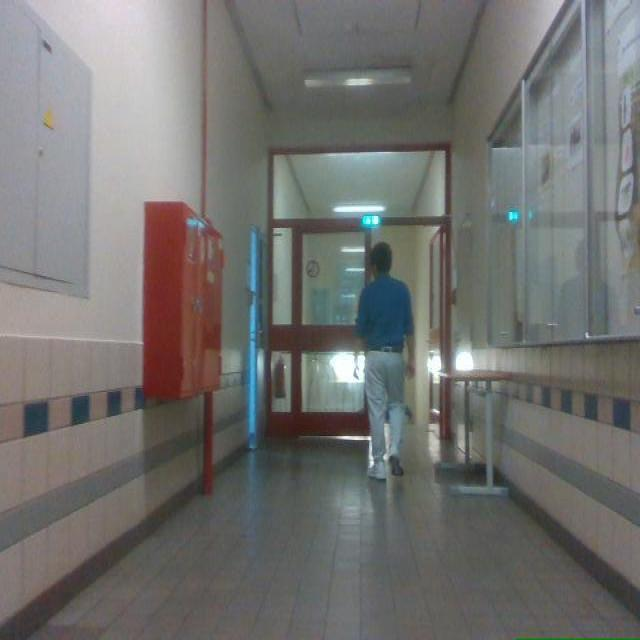humans: (356, 243, 414, 479)
objects: (441, 369, 510, 495)
